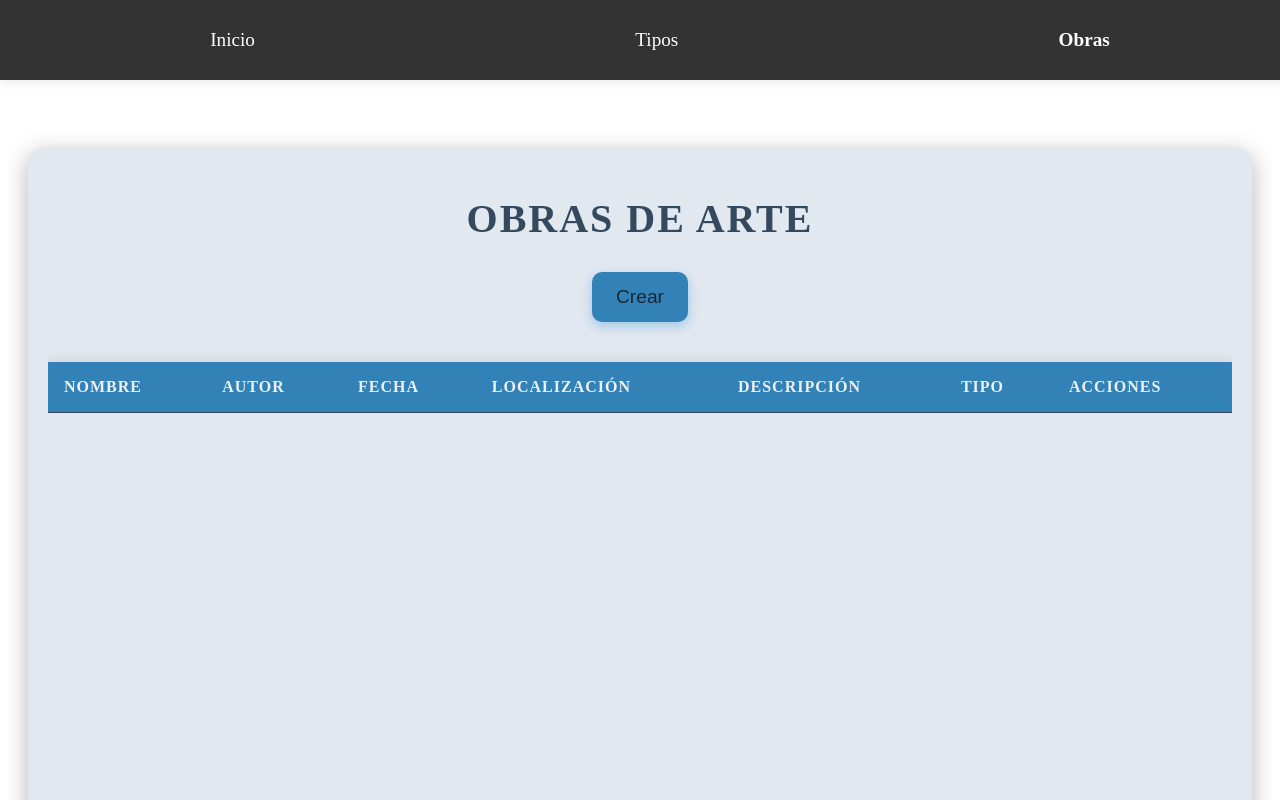
it: Obra Page › Entra al formulario
Click the button with class "create-button": (640, 297) [592,272,688,322]
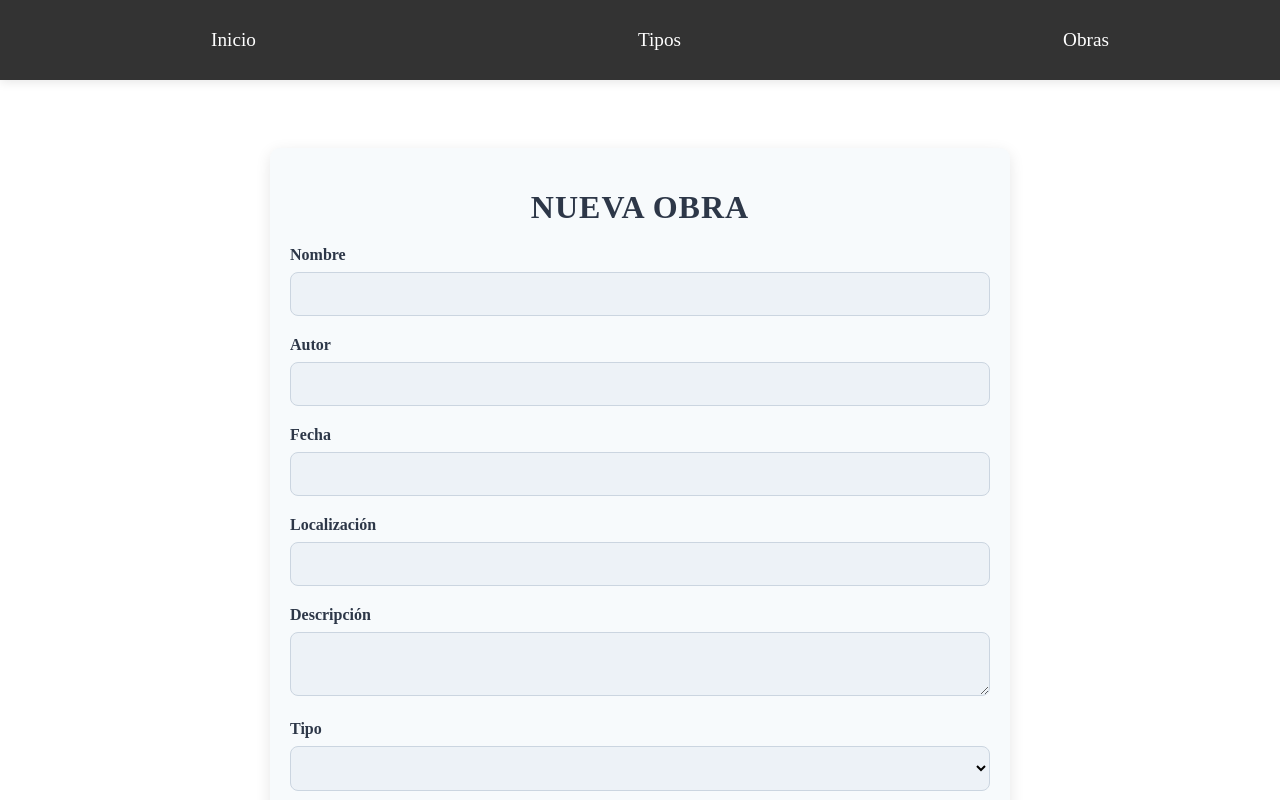
Check: the heading "Nueva Obra" is shown, box [531,189,749,225]
